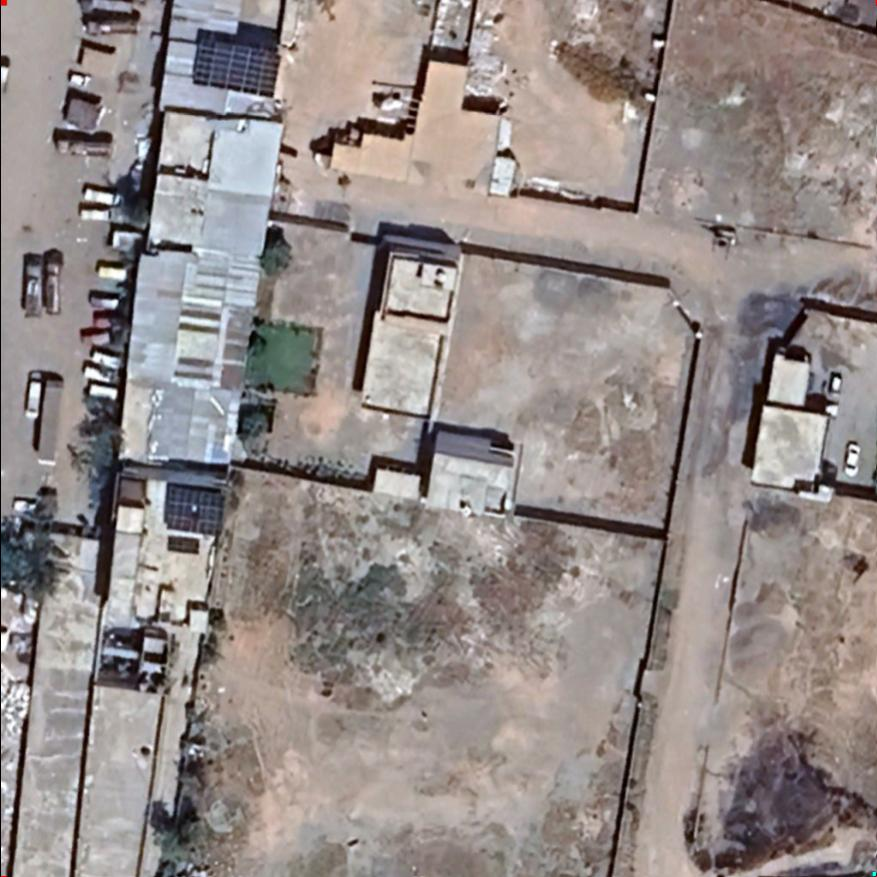Solarpanel: (186, 33, 282, 103), (151, 474, 230, 558)
